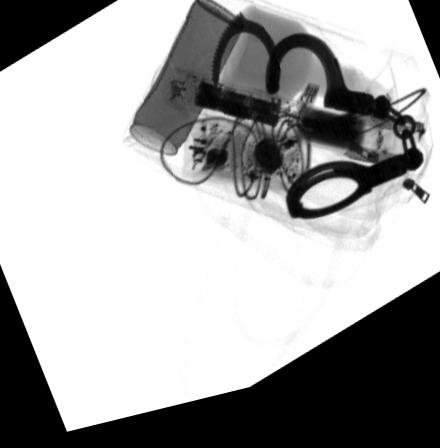Baton: (163, 73, 428, 189)
HandCuffs: (209, 20, 426, 234)
